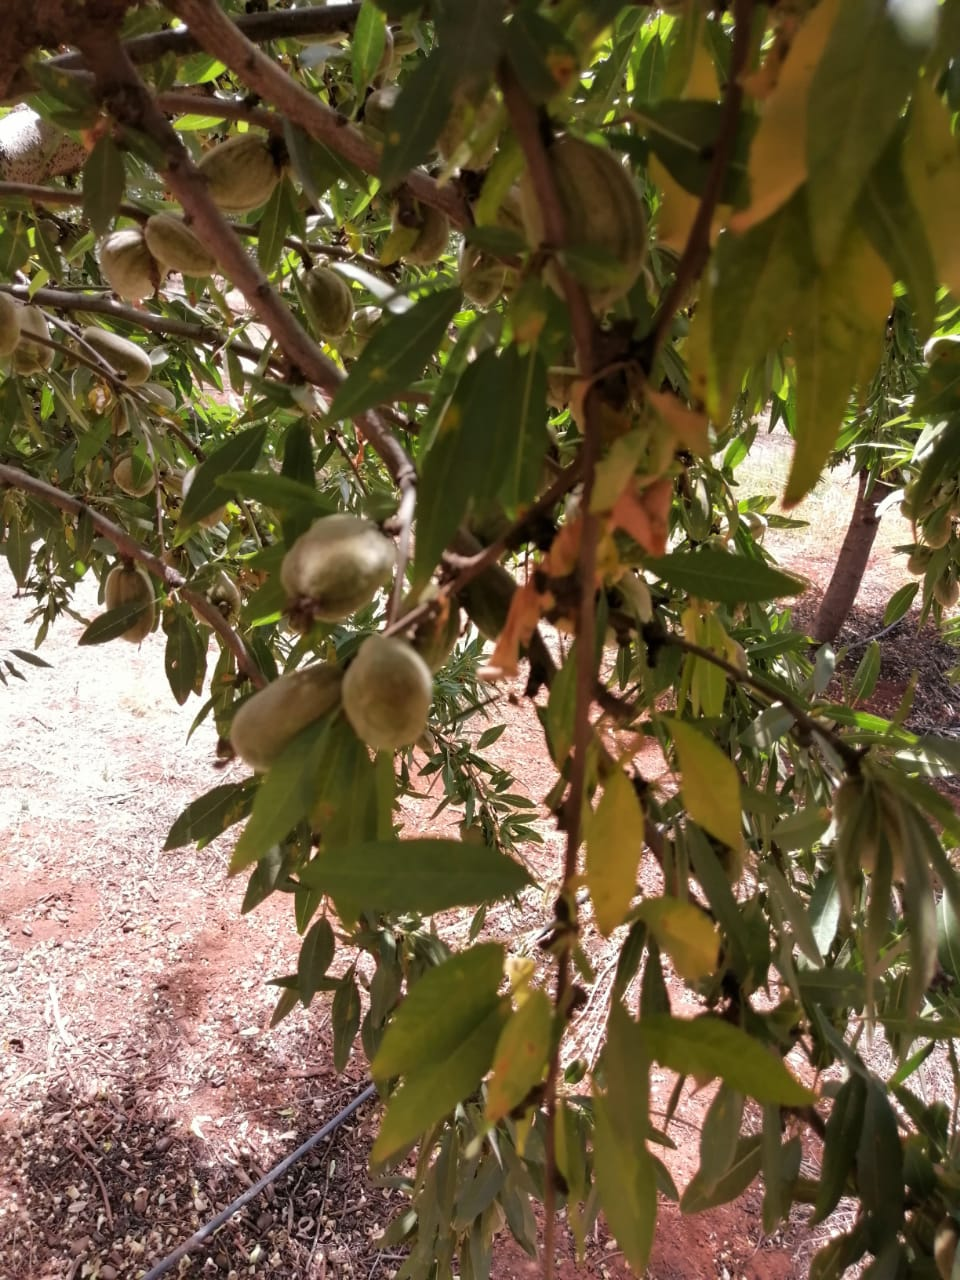coryneum: (603, 657, 928, 1026), (286, 683, 461, 1075), (283, 549, 515, 827), (428, 685, 549, 1117), (571, 444, 960, 561)
